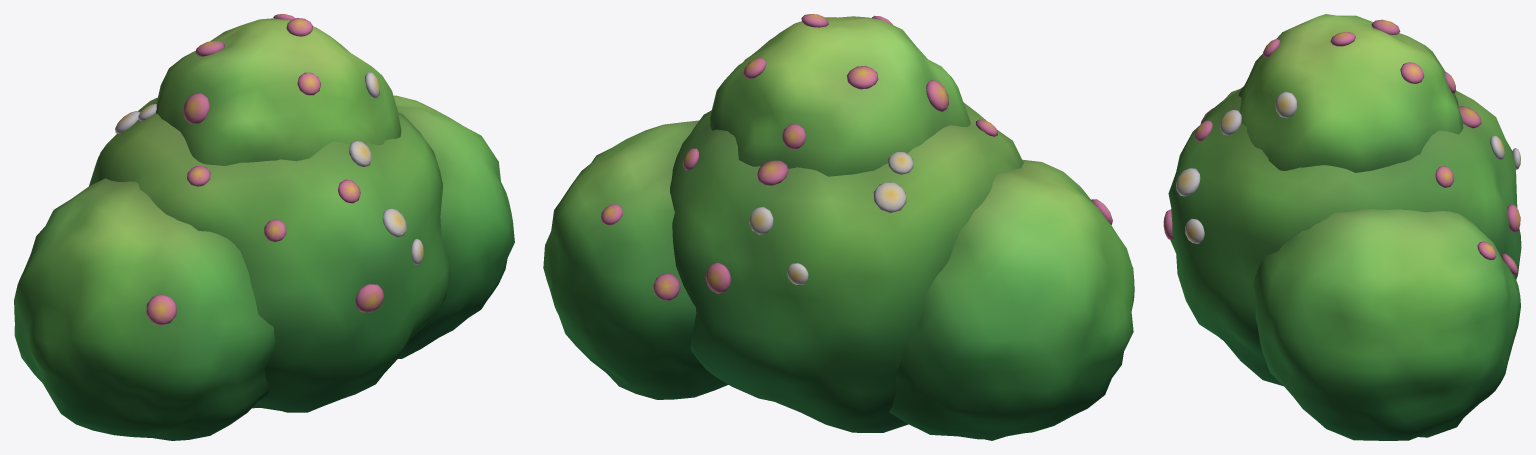
The model's file is bush_b.glb.
The picture shows the model from 3 angles, left to right: view 1: azimuth 30°, elevation 25°; view 2: azimuth 150°, elevation 25°; view 3: azimuth 270°, elevation 25°; orthographic projection. The views are drawn at different scales.
Visible parts, largest first — view 1: bush_b; view 2: bush_b; view 3: bush_b.
Boxes of the visible parts, x1=… form: bush_b: x1=14, y1=14, x2=514, y2=440; bush_b: x1=543, y1=14, x2=1134, y2=440; bush_b: x1=1163, y1=14, x2=1521, y2=440.
Bounding box in the file's own units: 1.39 × 0.9786 × 0.8925.
